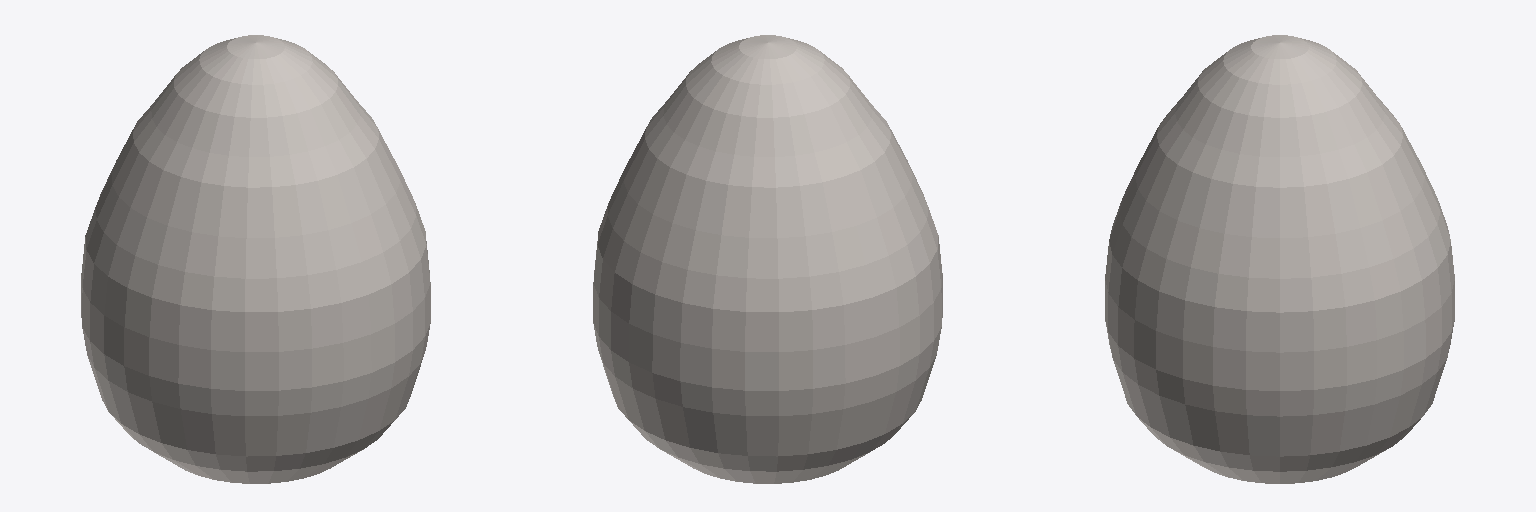
The model's file is egg.obj.
3 renders of one model, left to right at view 1: azimuth 30°, elevation 25°; view 2: azimuth 150°, elevation 25°; view 3: azimuth 270°, elevation 25°, orthographic.
Visible parts, largest first — view 1: Sphere; view 2: Sphere; view 3: Sphere.
Boxes of the visible parts, box(x1,y1,x2,y2) form: Sphere: box(81, 35, 430, 483); Sphere: box(593, 35, 942, 483); Sphere: box(1105, 35, 1454, 483).
Bounding box in the file's own units: 2.4 × 3.23 × 2.4.